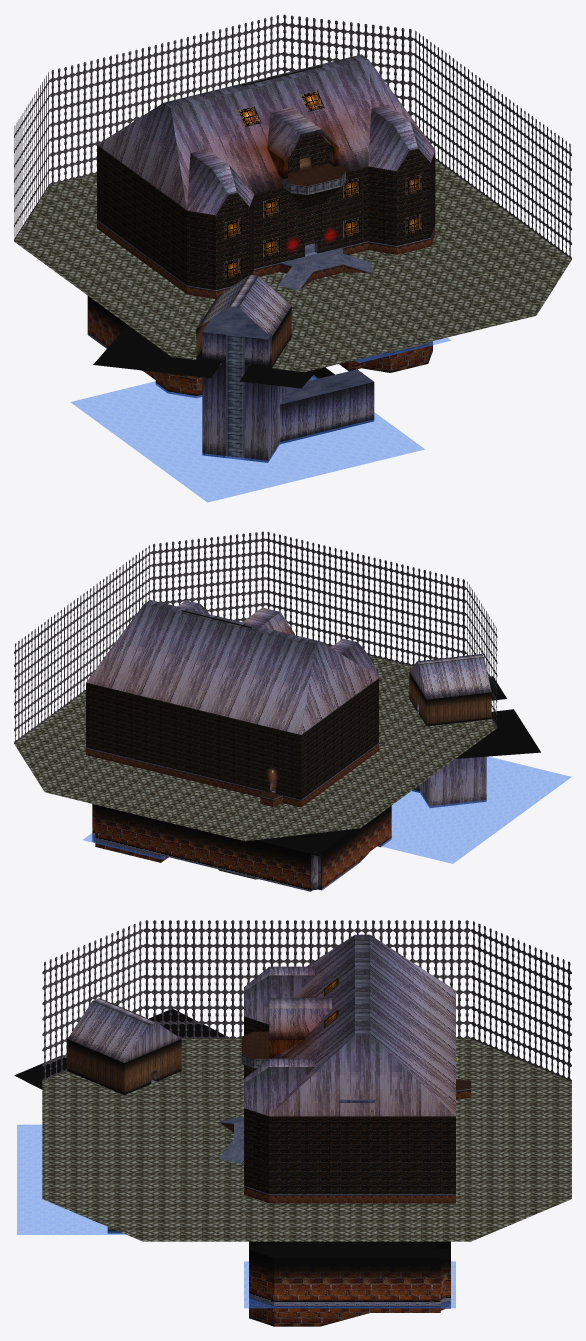
The model's file is teresa_house_all.glb.
3 views of the same model, one above another, from view 1: azimuth 30°, elevation 25°; view 2: azimuth 150°, elevation 25°; view 3: azimuth 270°, elevation 25° (orthographic). The views are drawn at different scales.
Visible parts, largest first — view 1: teresa_house_all; view 2: teresa_house_all; view 3: teresa_house_all.
Boxes of the visible parts, box(x1,y1,x2,y2) form: teresa_house_all: box(14, 14, 571, 502); teresa_house_all: box(14, 531, 571, 891); teresa_house_all: box(14, 920, 571, 1326).
Size of the model in its own units: 11.04 by 6.13 by 11.06.
Materials: 85 (84 with a texture image).
